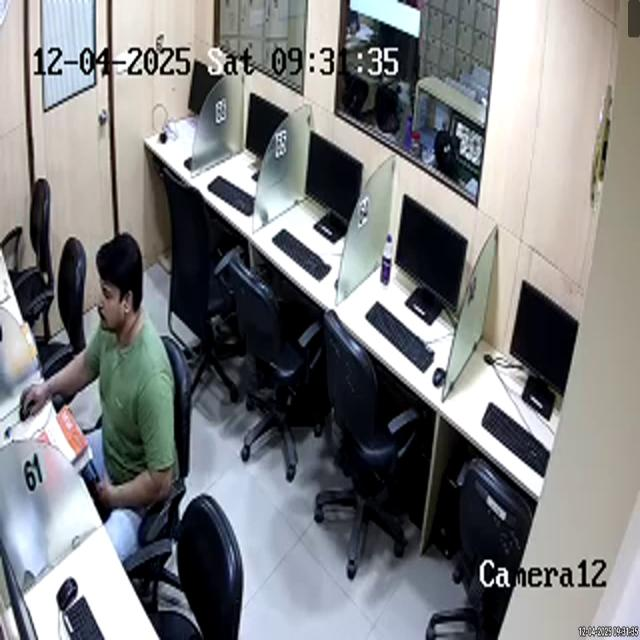phone: (90, 452, 109, 485)
